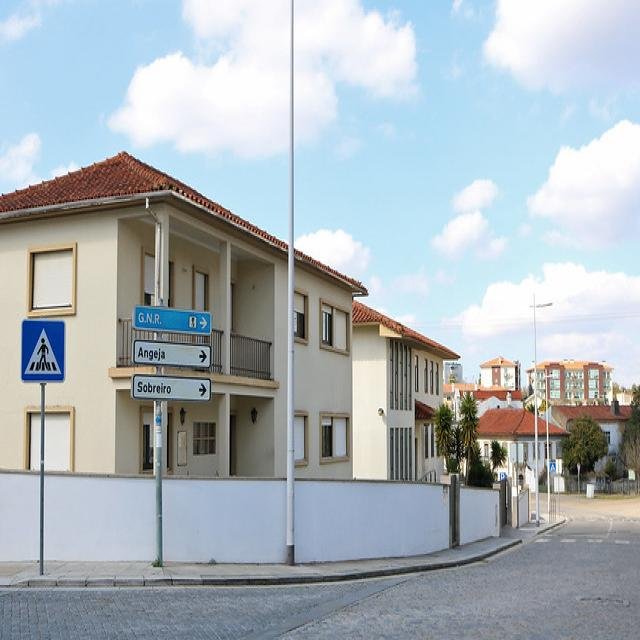Normal_building: (4, 151, 364, 539)
